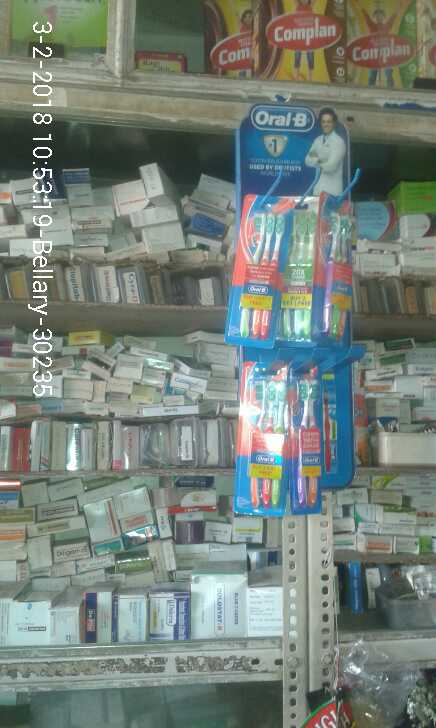oralb: (236, 370, 293, 508), (316, 194, 357, 338), (290, 375, 331, 507), (237, 195, 274, 338), (281, 194, 311, 331)
